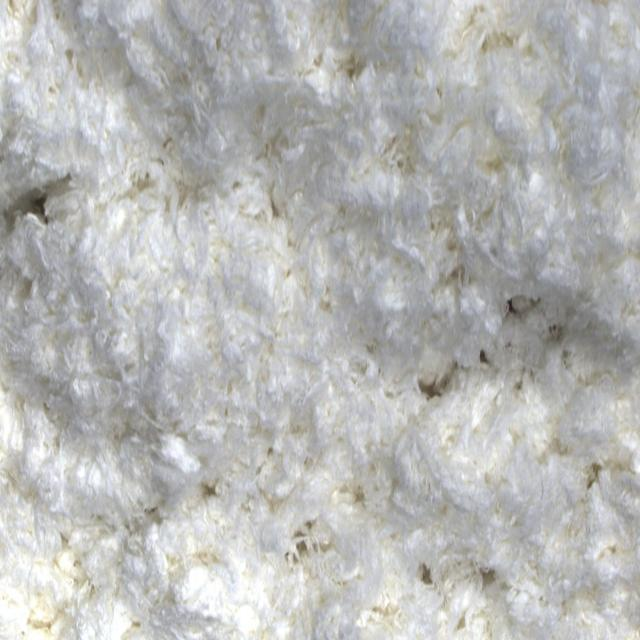dust: (24, 188, 51, 224)
